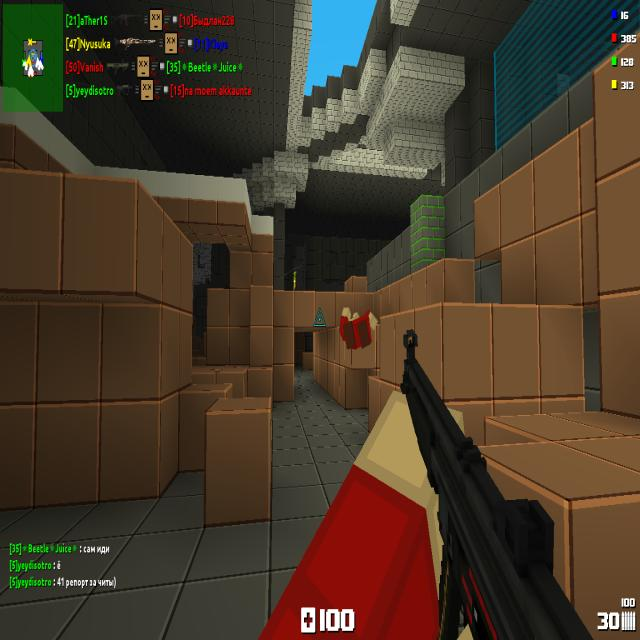enemy: (293, 271, 296, 291)
